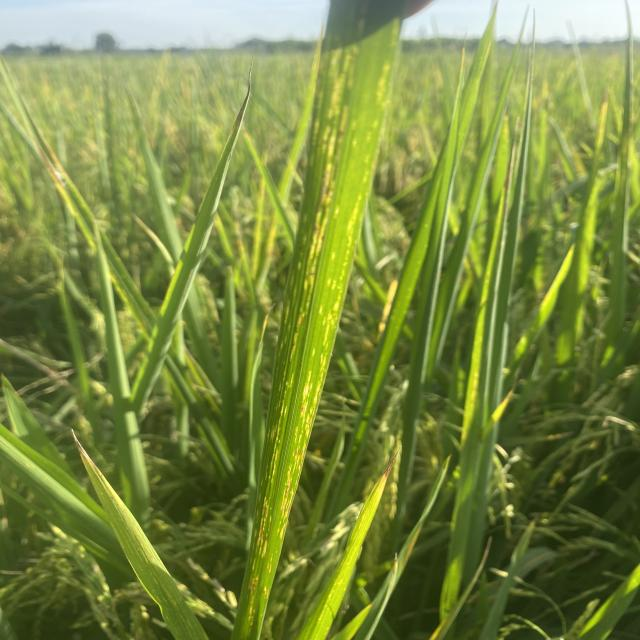Dom soc vi khuan: (298, 440, 307, 478), (300, 399, 308, 428), (292, 445, 300, 473), (295, 426, 298, 443), (298, 434, 302, 443)
